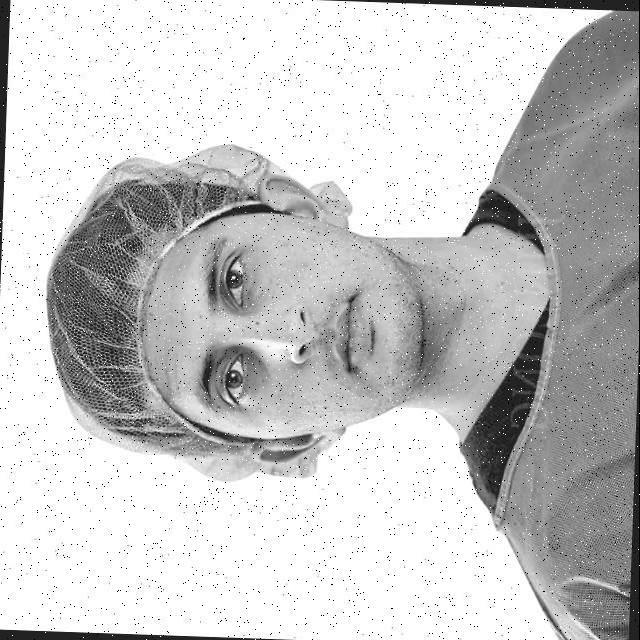gloves: (39, 140, 235, 485)
